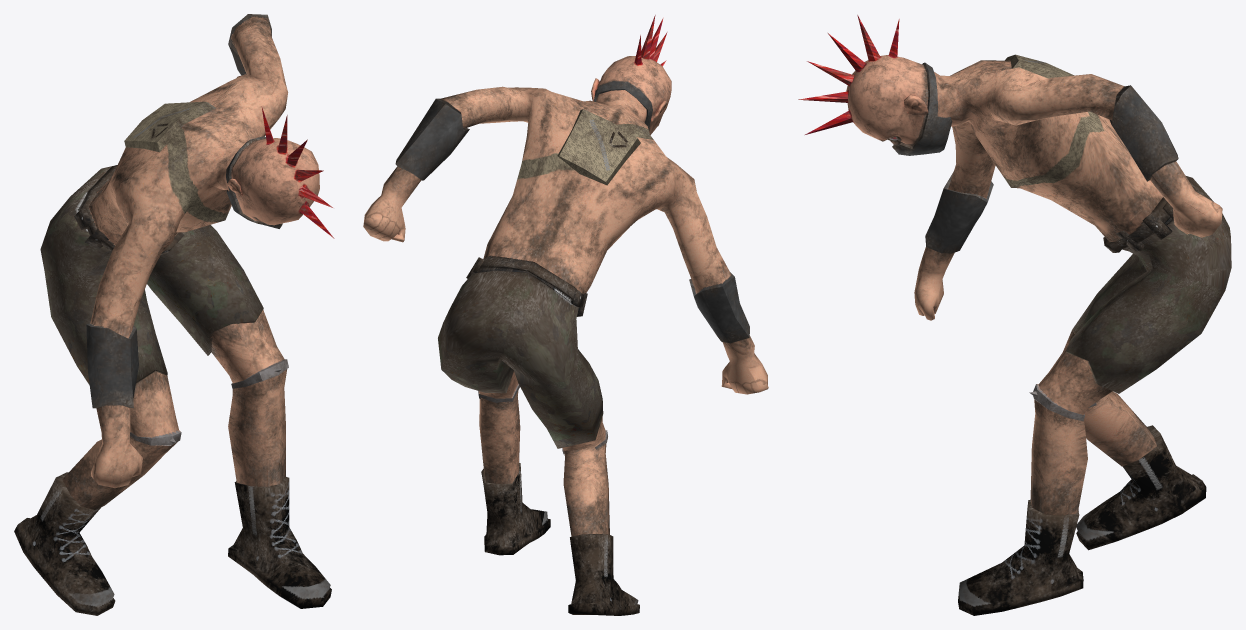
Rendered from Anim_cogerobjeto_npc2.0025.obj.
The picture shows the model from 3 angles, left to right: view 1: azimuth 30°, elevation 25°; view 2: azimuth 150°, elevation 25°; view 3: azimuth 270°, elevation 25°; orthographic projection. The views are drawn at different scales.
Visible parts, largest first — view 1: polySurface1; view 2: polySurface1; view 3: polySurface1.
Boxes of the visible parts, x1,y1,x2,y2 form: polySurface1: (14,14,334,615); polySurface1: (363,15,768,615); polySurface1: (798,15,1231,615).
Size of the model in its own units: 4.23 by 7.43 by 5.17.
2 materials, 2 textured.
